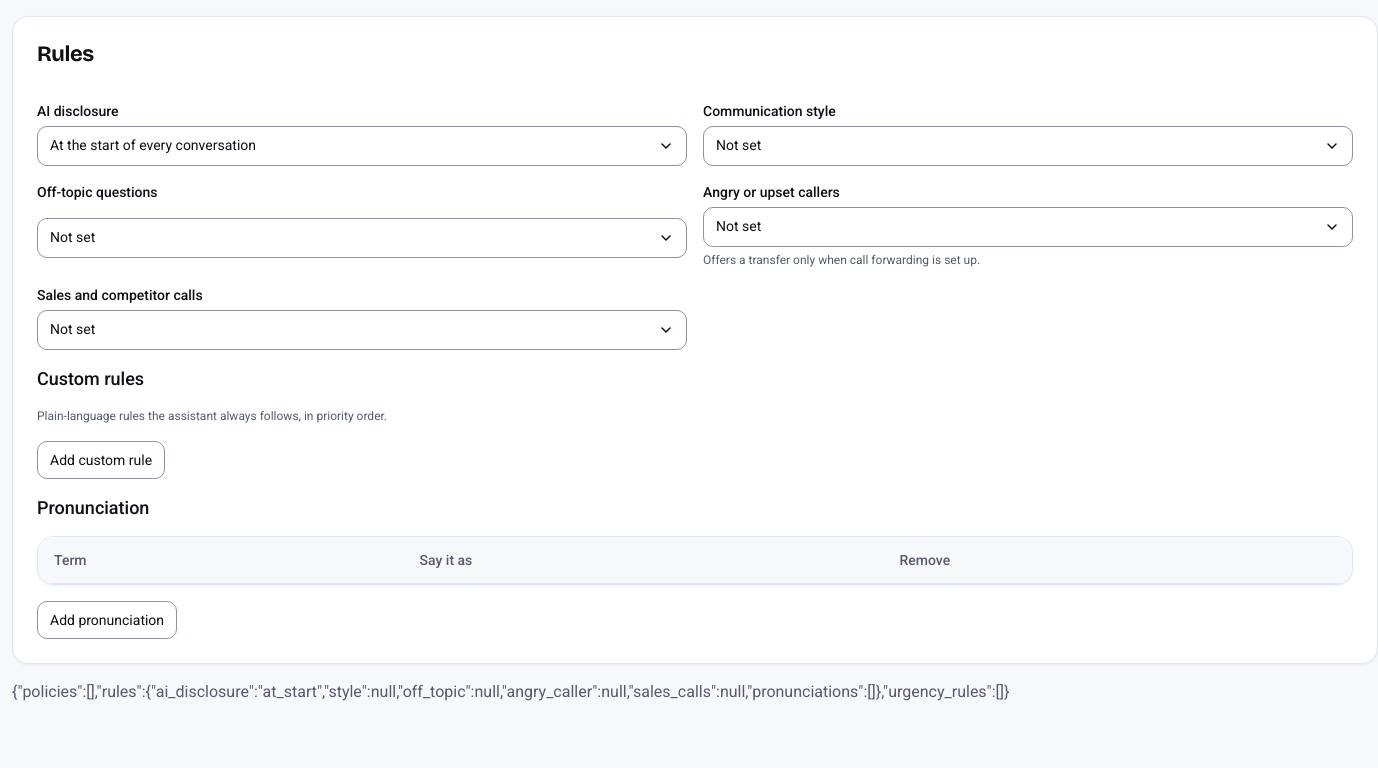
Test case: RulePresetsEditor › adds pronunciation entries
Click the button "Add pronunciation".
click(107, 620)  # box [37,602,177,640]
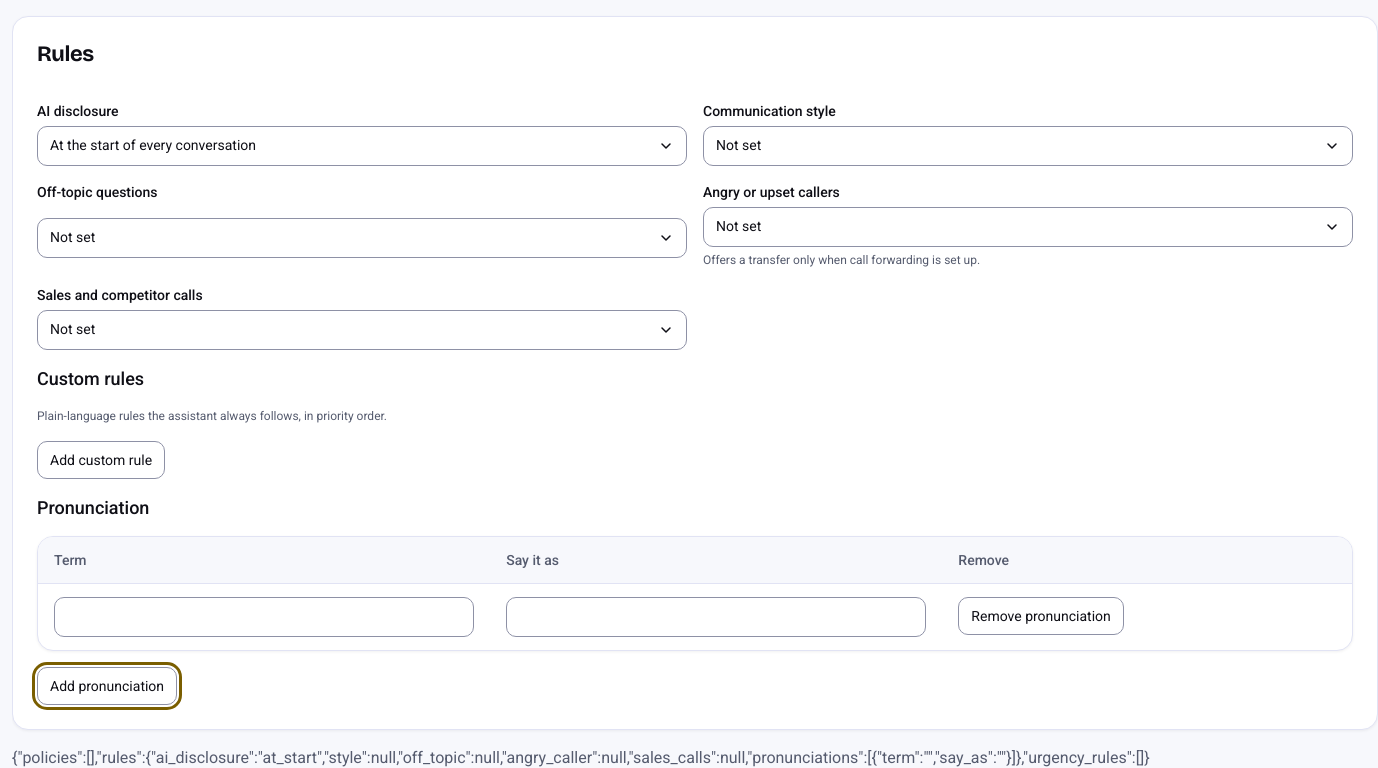
Type "ACAS" into the 1st field named "Term 1".
click(264, 617); type("ACAS")  # box [54,597,474,637]
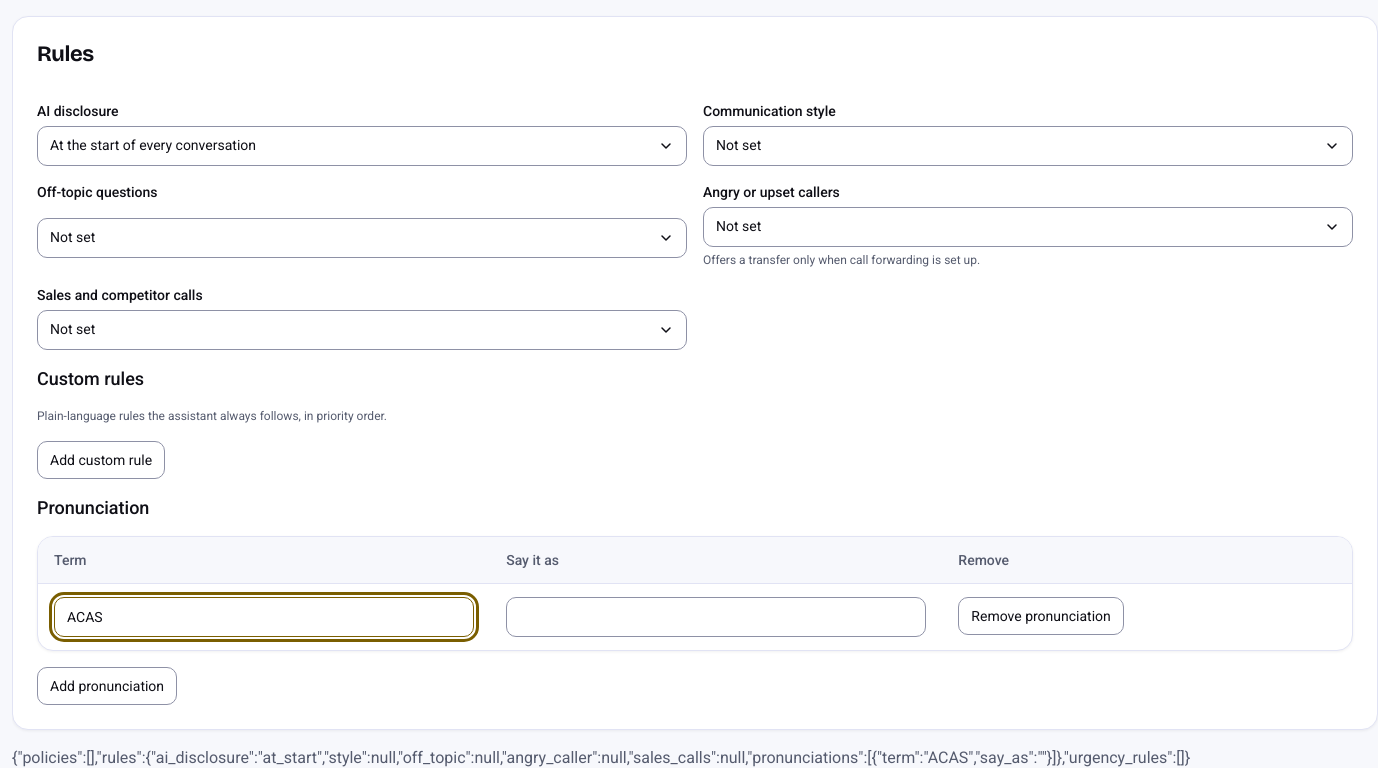
Type "Ay-cass" into the 2nd field named "Say it as 1".
click(716, 617); type("Ay-cass")  # box [506,597,926,637]
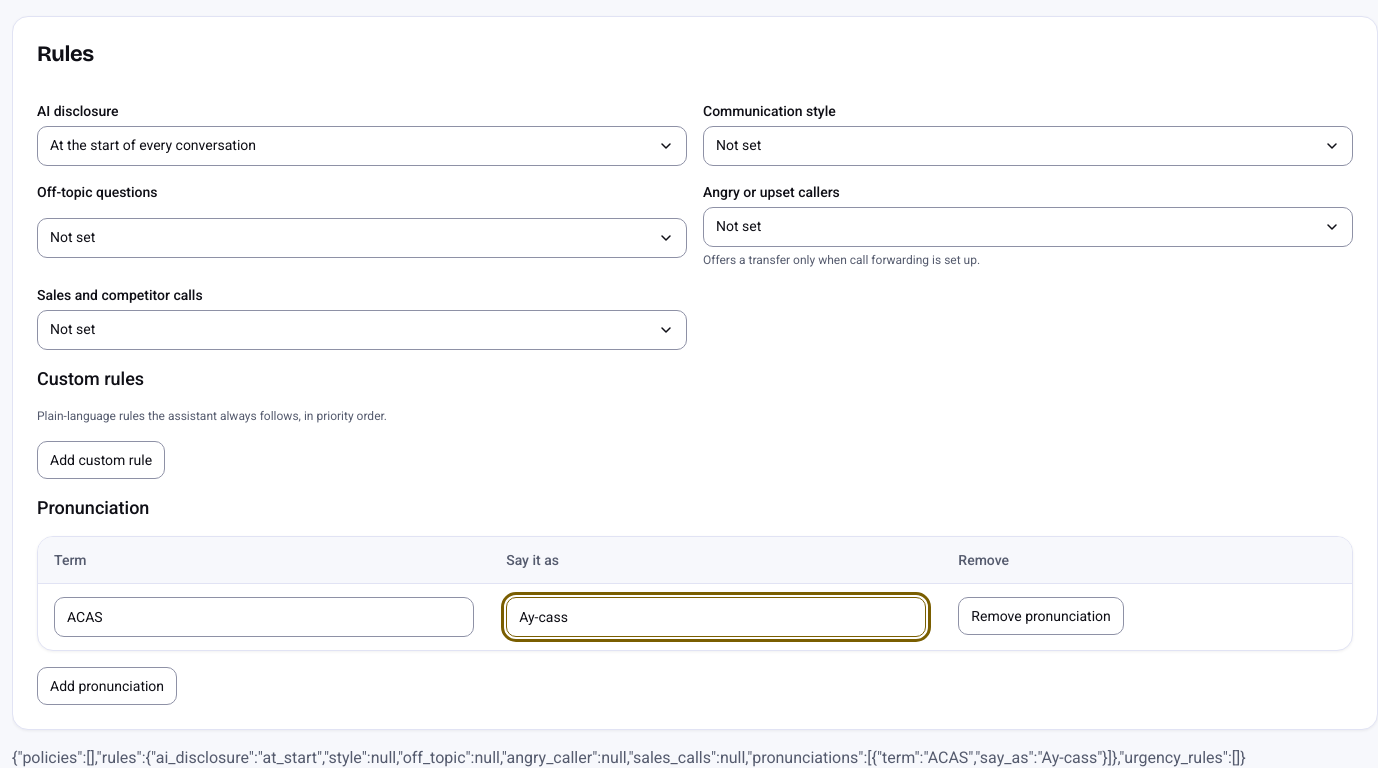
Expected: the text with test id "config" shows "\"term\":\"ACAS\",\"say_as\":\"Ay-cass\"", [12,748,1246,767]
